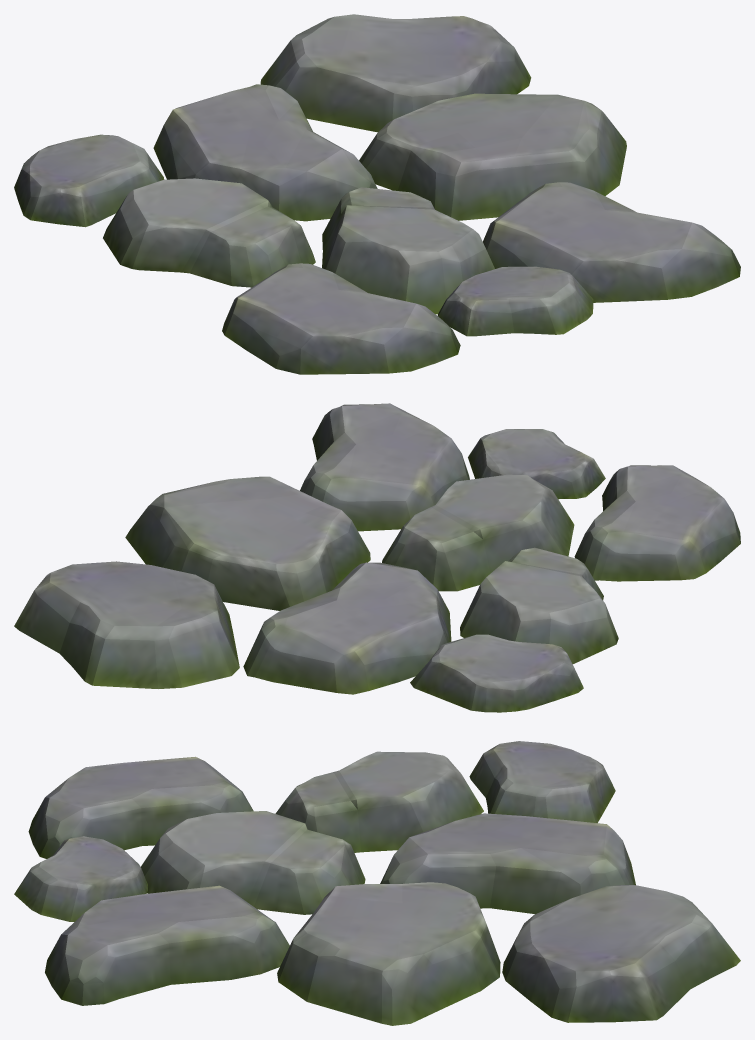
Rendered from RockPath_Round_Small_2.gltf.
3 views of the same model, one above another, from view 1: azimuth 30°, elevation 25°; view 2: azimuth 150°, elevation 25°; view 3: azimuth 270°, elevation 25° (orthographic). The views are drawn at different scales.
Parts seen in each view (by area): view 1: RockPath_Round_Small_2; view 2: RockPath_Round_Small_2; view 3: RockPath_Round_Small_2.
Part boxes in pixels (box(x1,y1,x2,y2)): RockPath_Round_Small_2: box(14, 14, 740, 374); RockPath_Round_Small_2: box(14, 403, 740, 712); RockPath_Round_Small_2: box(14, 741, 740, 1025).
Size of the model in its own units: 1.14 by 0.1047 by 1.35.
1 material, 1 textured.
